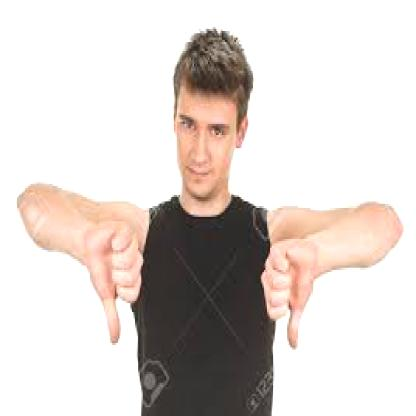Thumbs Down: (81, 210, 153, 358), (262, 227, 320, 353)
